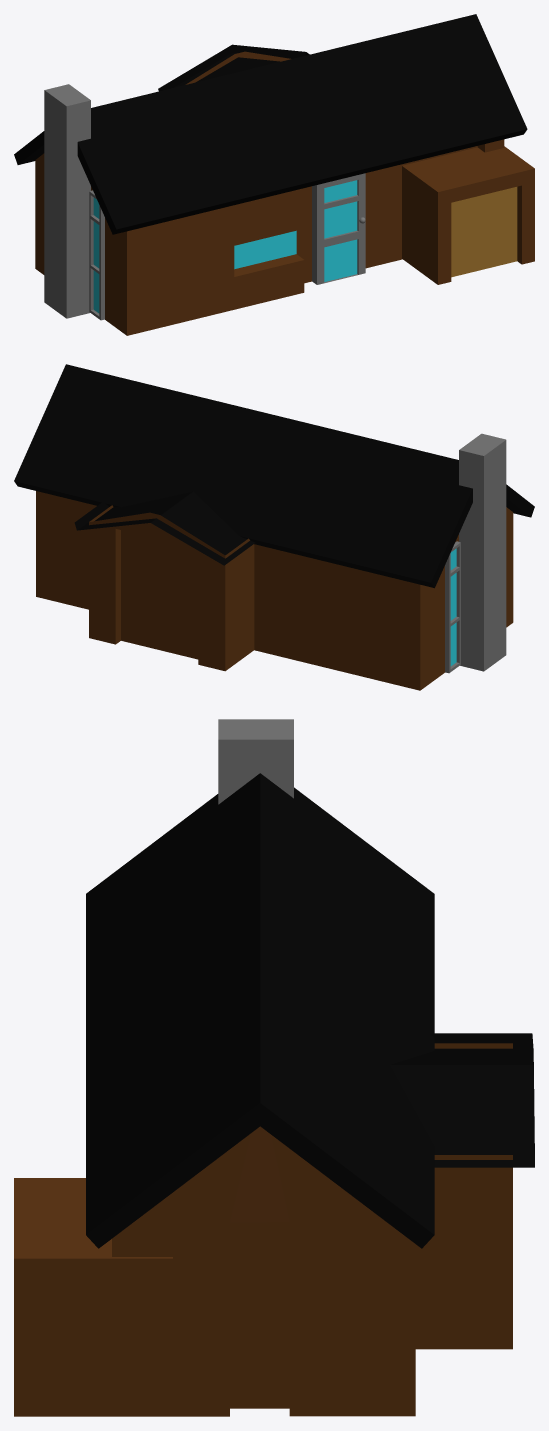
File: house3.gltf
3 views of the same model, one above another, from view 1: azimuth 30°, elevation 25°; view 2: azimuth 150°, elevation 25°; view 3: azimuth 270°, elevation 25° (orthographic). The views are drawn at different scales.
Visible parts, largest first — view 1: Cube.020; view 2: Cube.020; view 3: Cube.020.
Part boxes in pixels (bbox=[...]): Cube.020: bbox=[14, 14, 534, 335]; Cube.020: bbox=[14, 364, 534, 690]; Cube.020: bbox=[14, 719, 534, 1416].
Size of the model in its own units: 2.01 by 0.9654 by 1.26.
